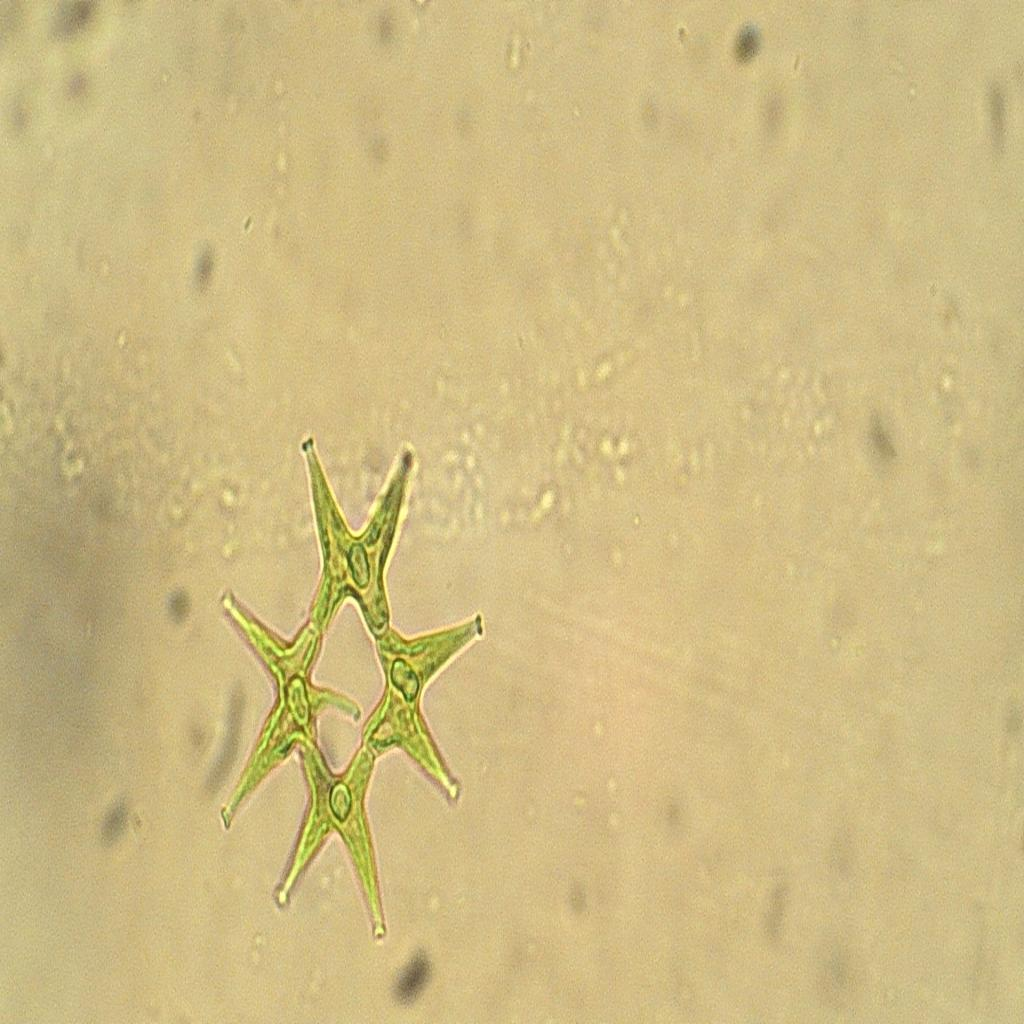Pediastrum_75FO: (200, 418, 514, 965)
